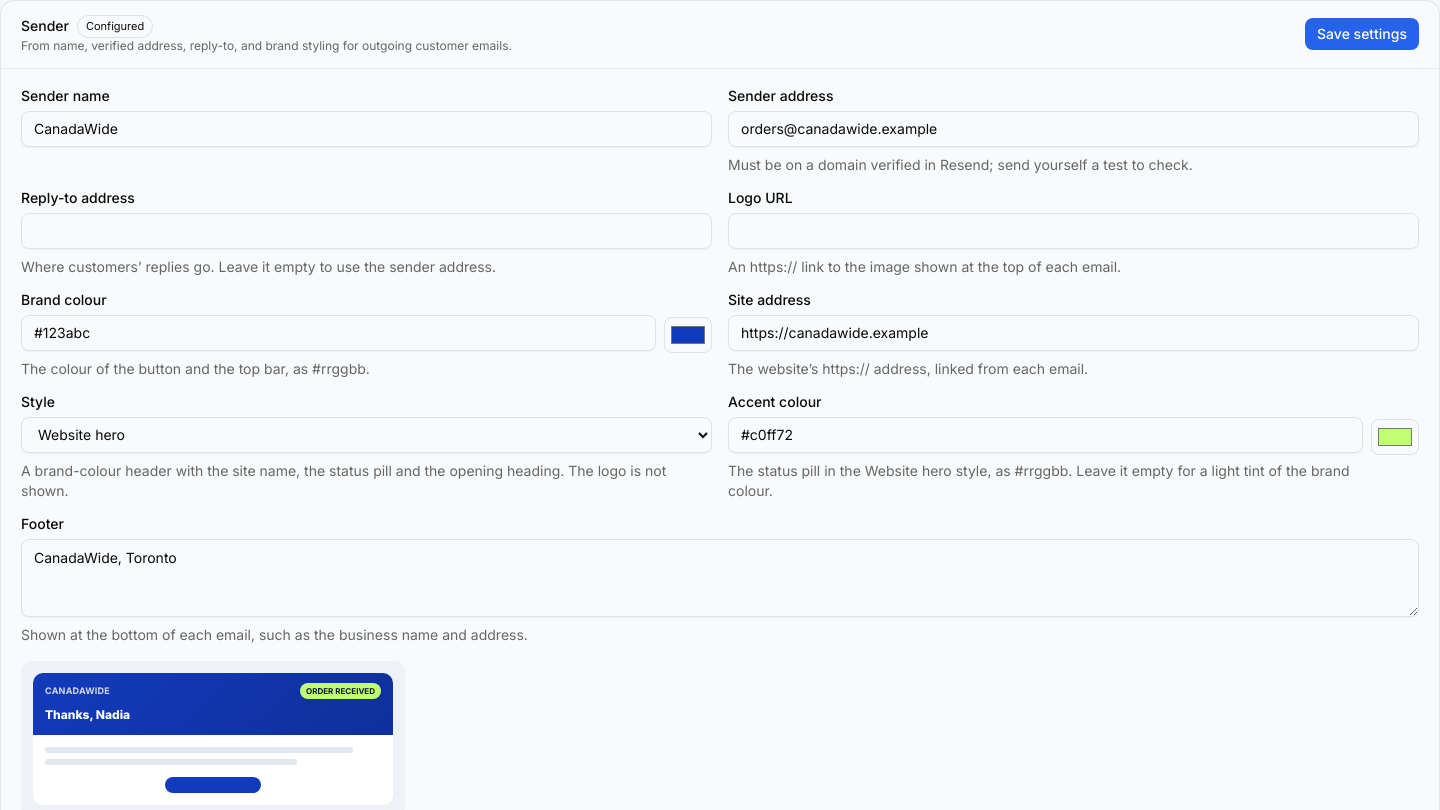
Scenario: EmailSettings form › starts from the saved style and accent, and refuses a malformed accent
Expected: the dropdown labelled "Style" shows "Website hero", [21,416,712,452]
Type "lime" into the field labelled "Accent colour".
click(1046, 434); type("lime")  # box [728,416,1363,452]
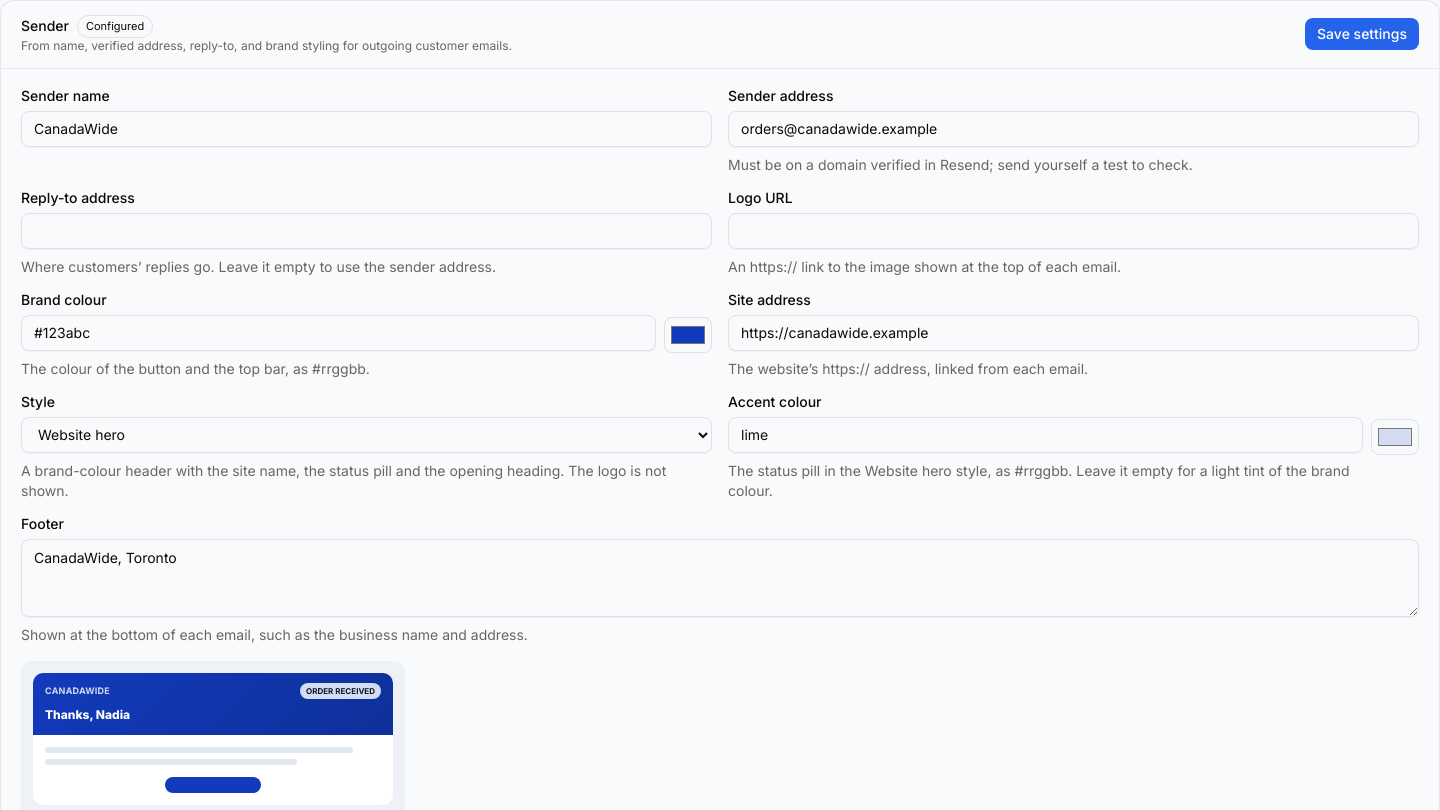
Click the button "Save settings".
click(1362, 34)  # box [1305,18,1419,50]
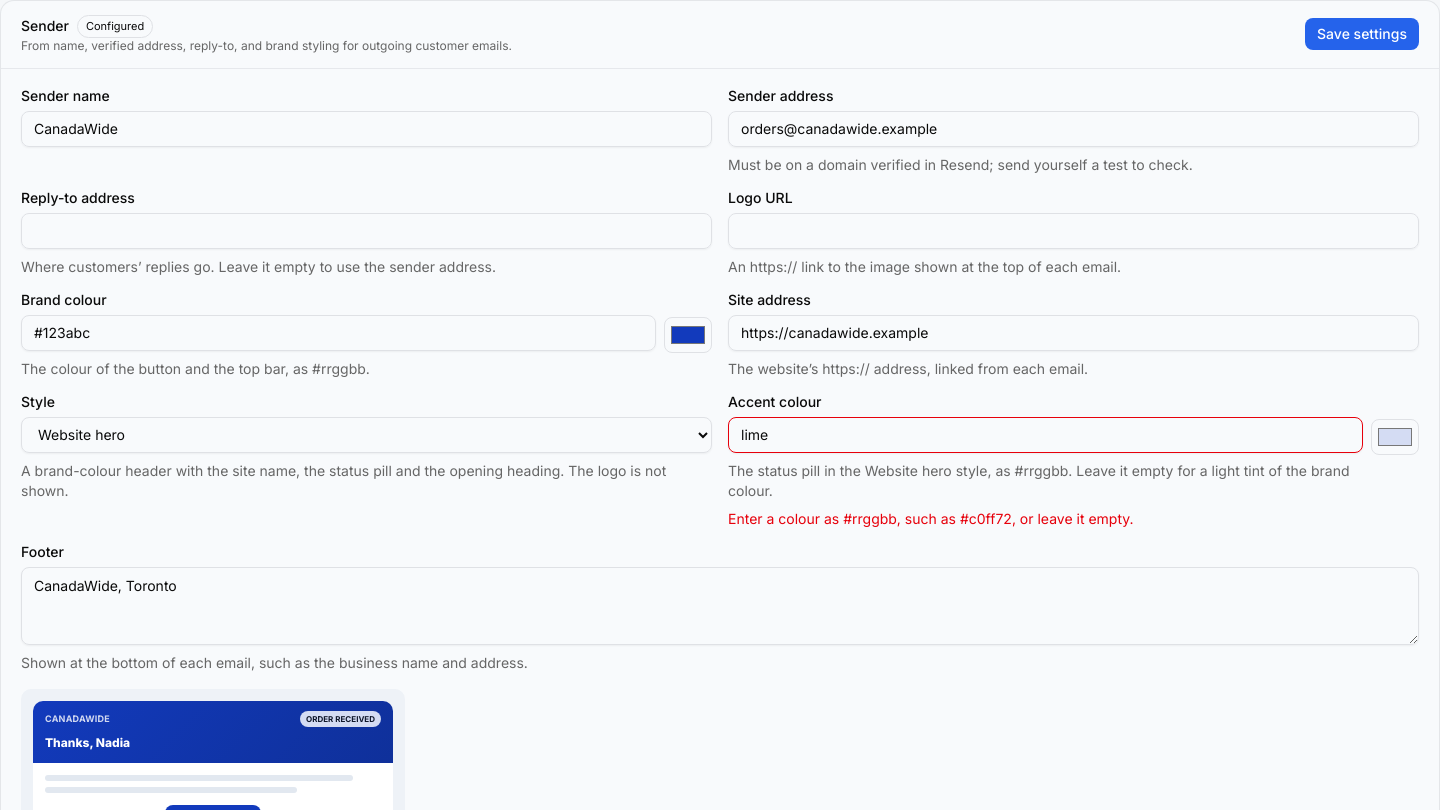
Now the text "Enter a colour as #rrggbb, such as #c0ff72, or leave it empty." is shown, box [728,510,1134,526]
